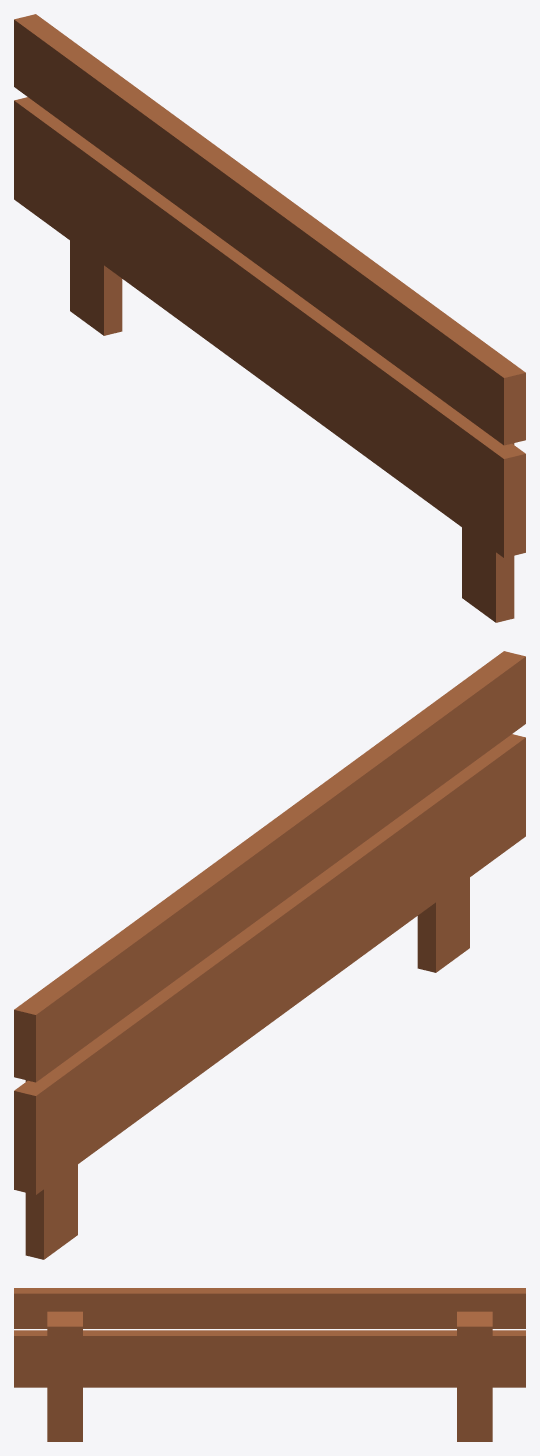
Rendered from fence_01.fbx.
3 views of the same model, one above another, from view 1: azimuth 30°, elevation 25°; view 2: azimuth 150°, elevation 25°; view 3: azimuth 270°, elevation 25° (orthographic). The views are drawn at different scales.
Parts seen in each view (by area): view 1: fence_01; view 2: fence_01; view 3: fence_01.
Boxes of the visible parts, x1,y1,x2,y2 form: fence_01: [14, 14, 525, 622]; fence_01: [14, 651, 525, 1259]; fence_01: [14, 1288, 525, 1441].
Bounding box in the file's own units: 0.1992 × 1.23 × 4.
